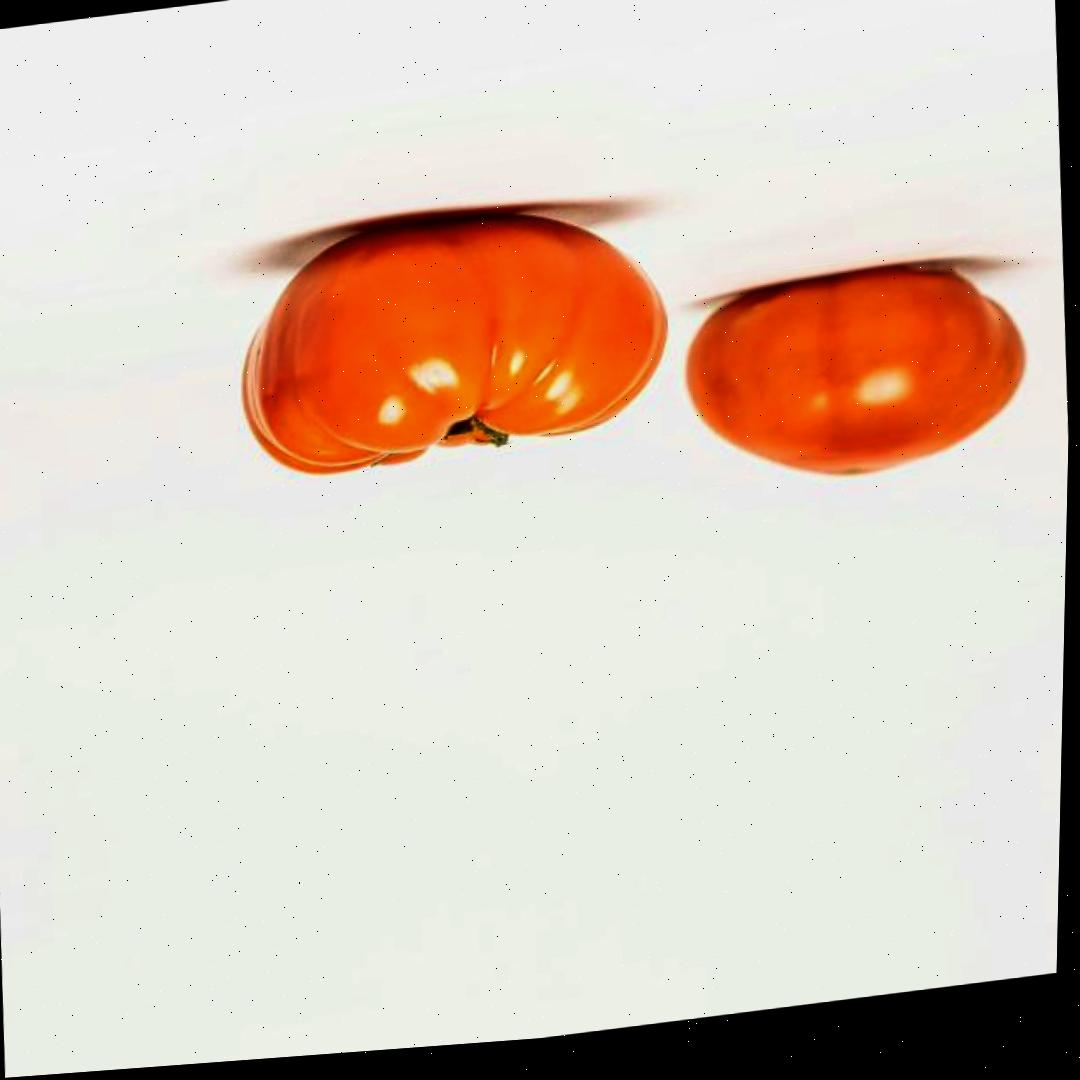matang: (230, 187, 677, 484), (676, 244, 1031, 499)
